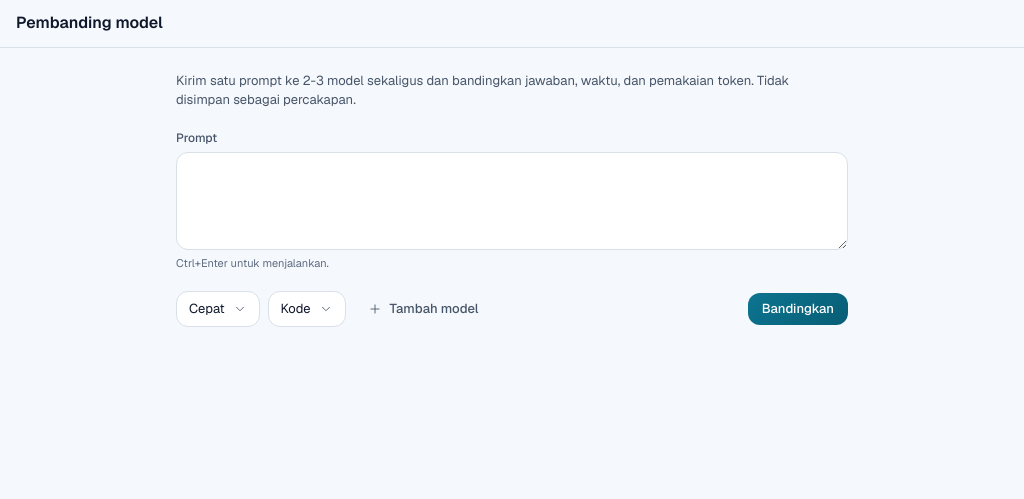
Test: CompareScreen › satu model gagal: galatnya tampil di kolomnya, kolom lain tetap
Type "halo" into the text box labelled "Prompt".
click(512, 201); type("halo")  # box [176, 152, 848, 250]
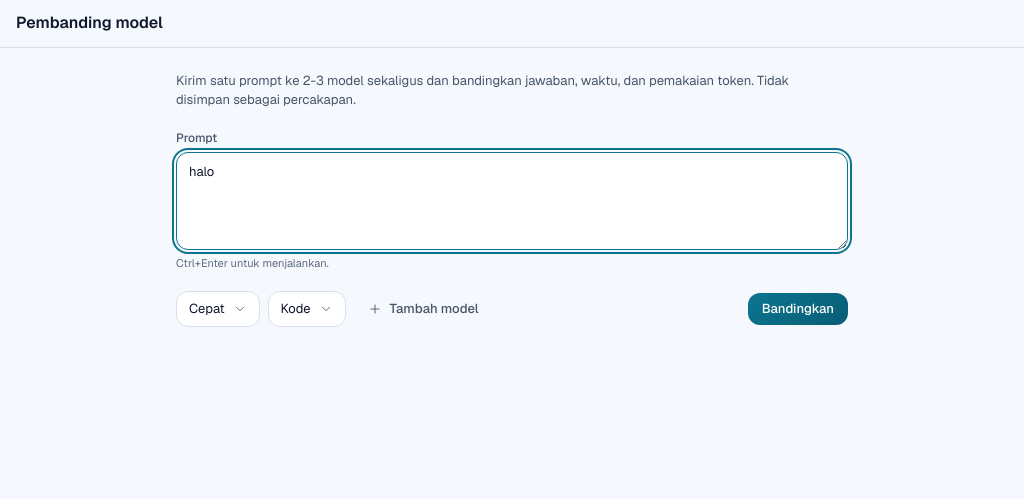
Click the button "Bandingkan".
click(798, 309)  # box [748, 293, 848, 325]
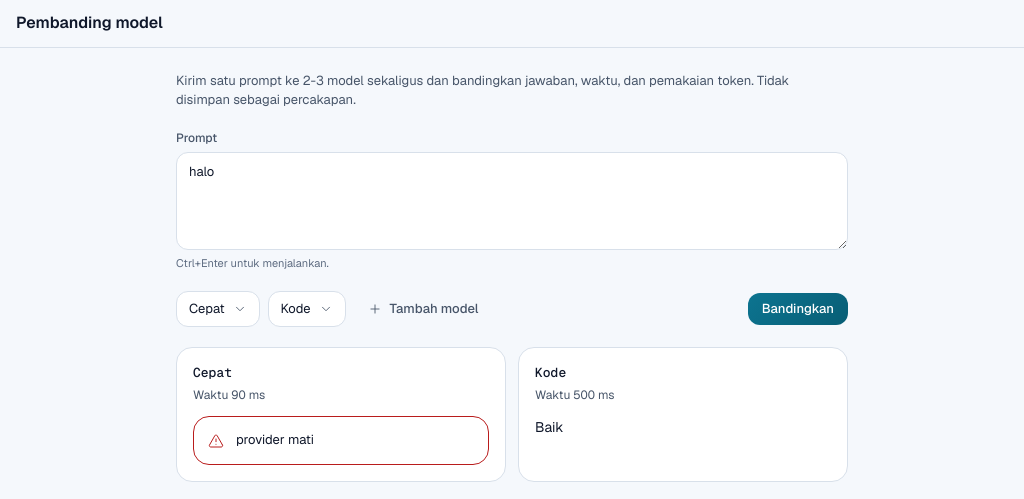
Check: the message reads "provider mati", box [236, 431, 314, 448]
Check: the element "Kode" shows "Baik", box [535, 418, 563, 436]
